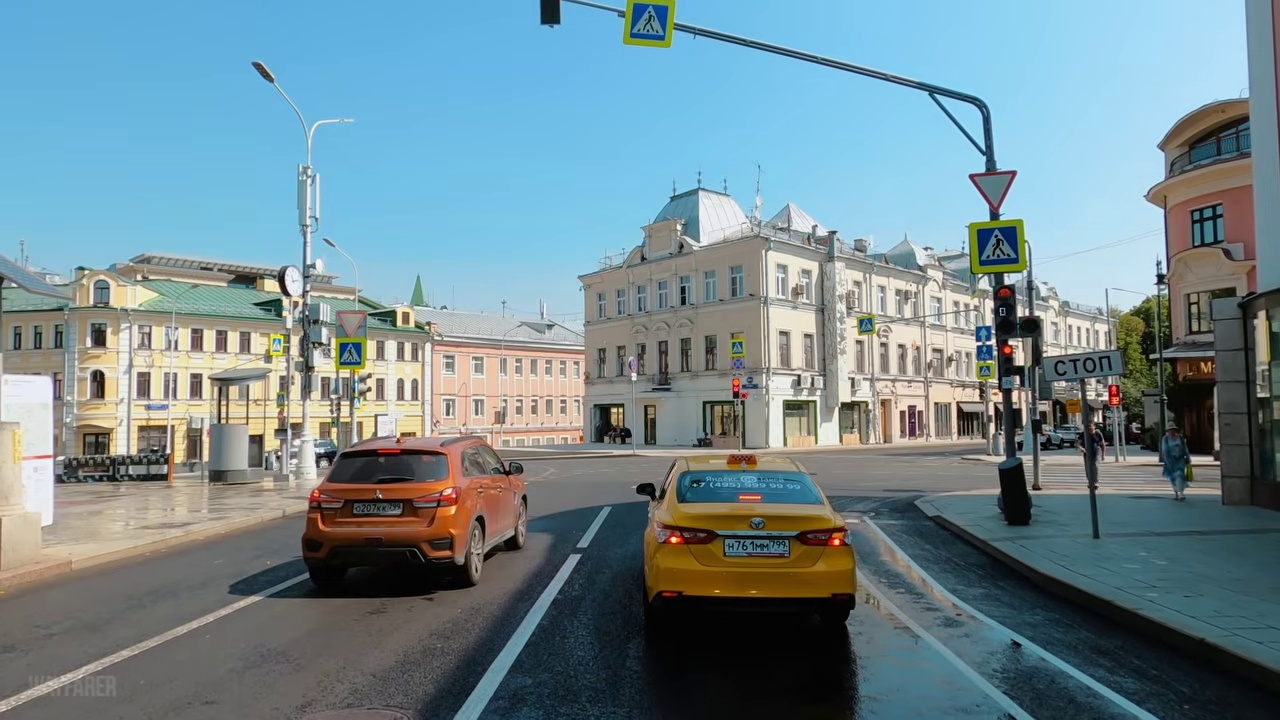apagada: (248, 59, 276, 88)
